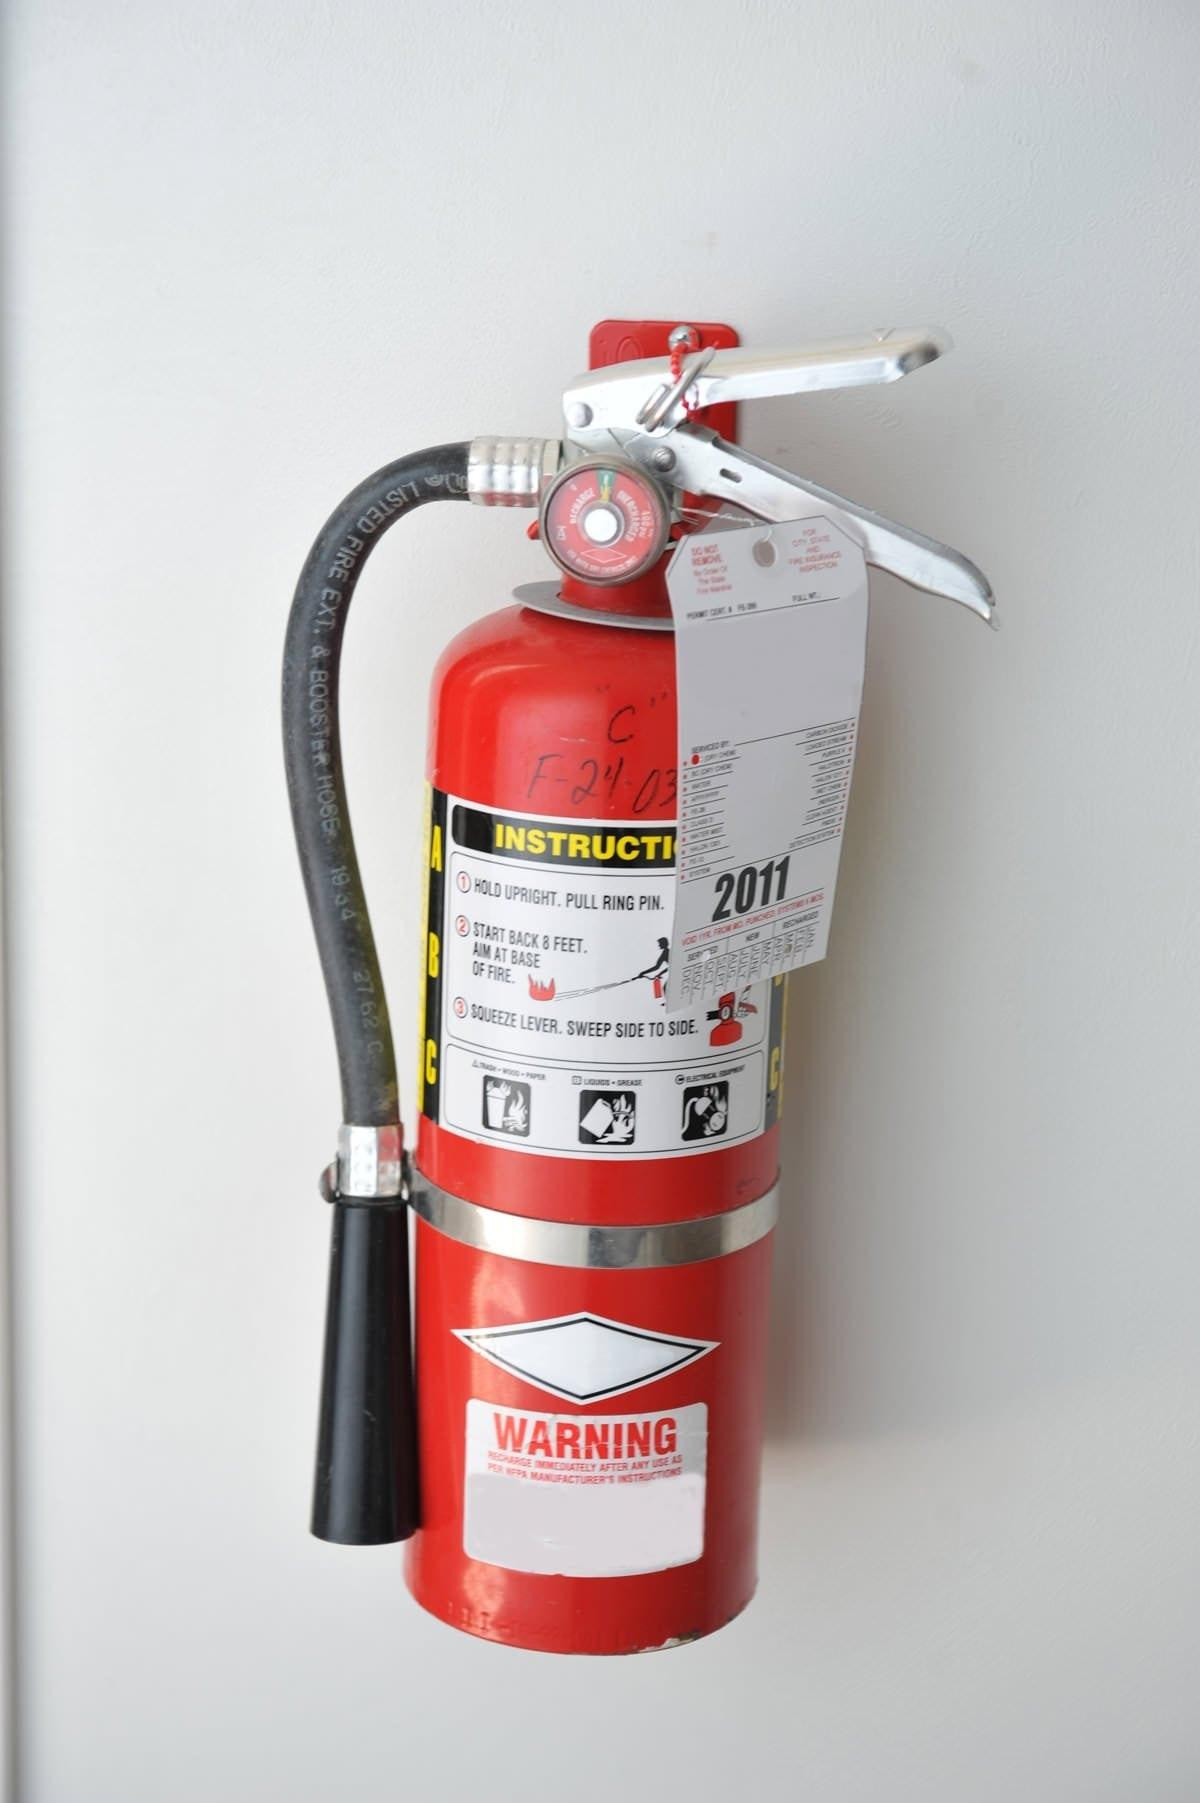wall-mounted: (167, 265, 967, 1660)
